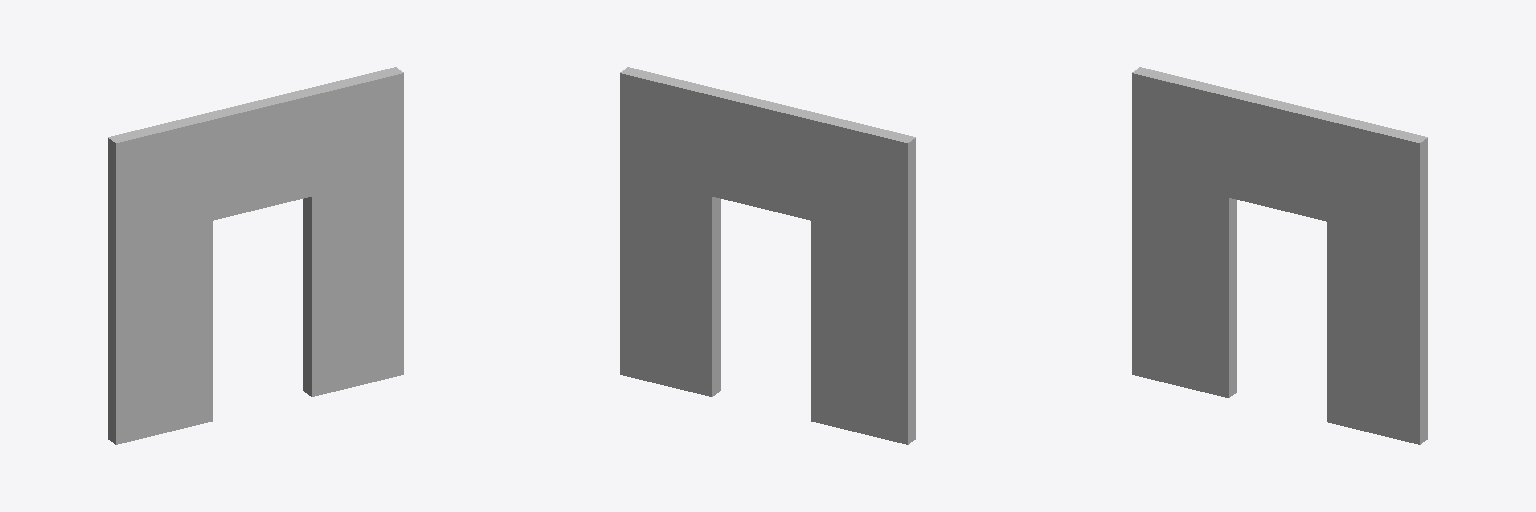
Rendered from wall with hole.obj.
3 renders of one model, left to right at view 1: azimuth 30°, elevation 25°; view 2: azimuth 150°, elevation 25°; view 3: azimuth 330°, elevation 25°, orthographic.
Parts seen in each view (by area): view 1: pCube54; view 2: pCube54; view 3: pCube54.
Part boxes in pixels (x1,y1,x2,y2): pCube54: (108, 67, 403, 444); pCube54: (620, 67, 915, 444); pCube54: (1132, 67, 1427, 444).
Bounding box in the file's own units: 400 × 400 × 20.